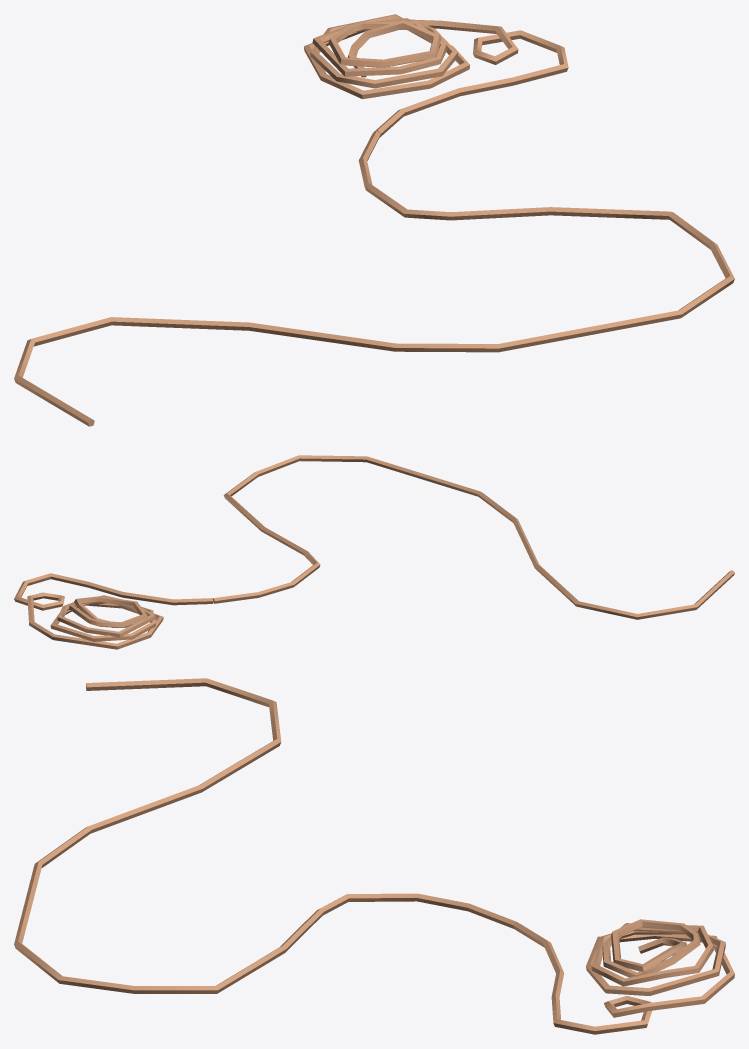
File: Rope_Pile.fbx
3 views of the same model, one above another, from view 1: azimuth 30°, elevation 25°; view 2: azimuth 150°, elevation 25°; view 3: azimuth 270°, elevation 25° (orthographic). The views are drawn at different scales.
Parts seen in each view (by area): view 1: sweep1, sweep5; view 2: sweep1, sweep5; view 3: sweep1, sweep5.
Boxes of the visible parts, box(x1,y1,x2,y2) form: sweep1: box(304, 14, 568, 137); sweep5: box(14, 131, 734, 426); sweep1: box(14, 573, 213, 649); sweep5: box(213, 455, 734, 619); sweep1: box(513, 919, 734, 1034); sweep5: box(14, 678, 516, 993).
Size of the model in its own units: 54.04 by 2.28 by 46.78.
Materials: 1 (1 with a texture image).
